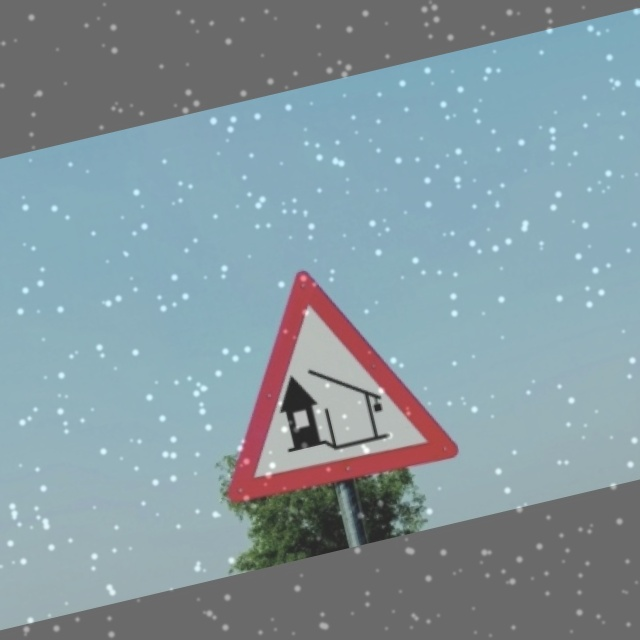Barrier_Ahead: (167, 230, 481, 520)
